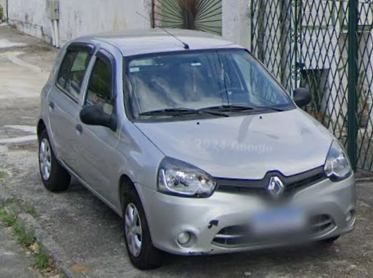car: (36, 26, 357, 274)
